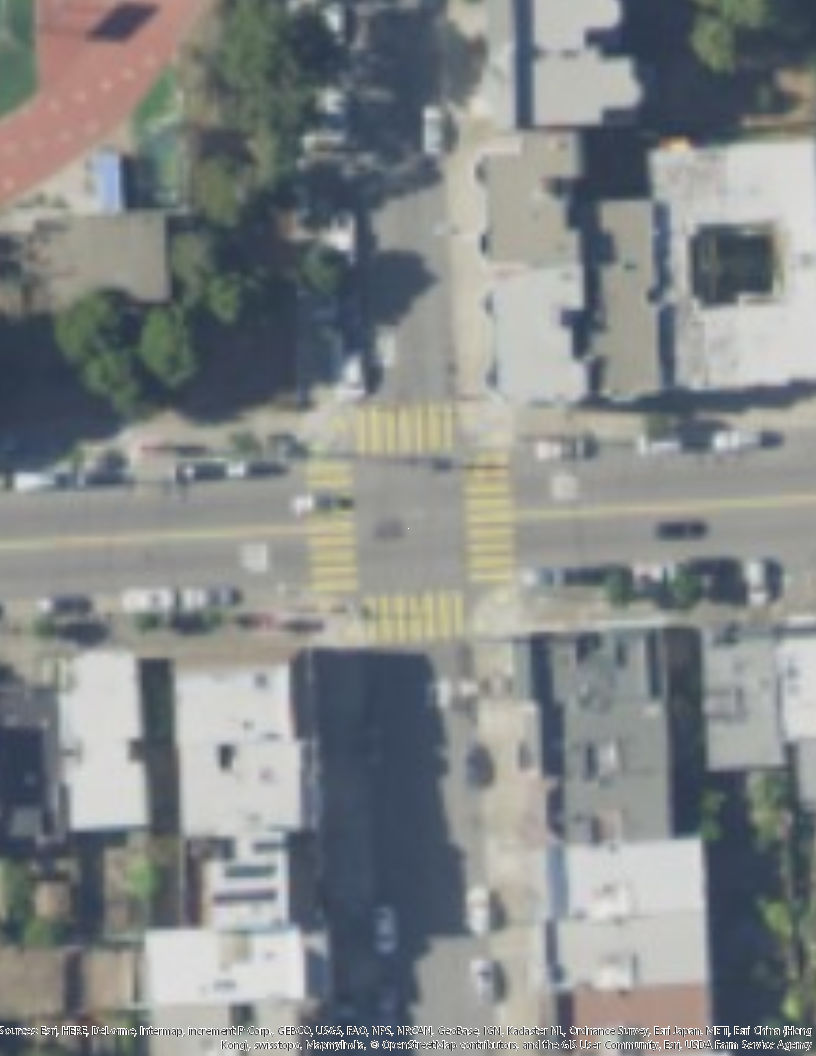zebracross: (461, 457, 518, 583), (307, 458, 357, 591), (357, 402, 451, 455), (366, 591, 466, 639)
